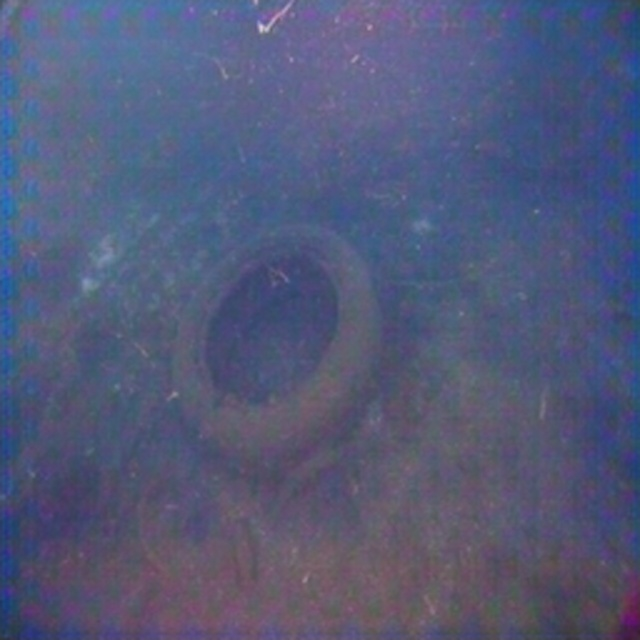mine: (172, 222, 384, 472)
